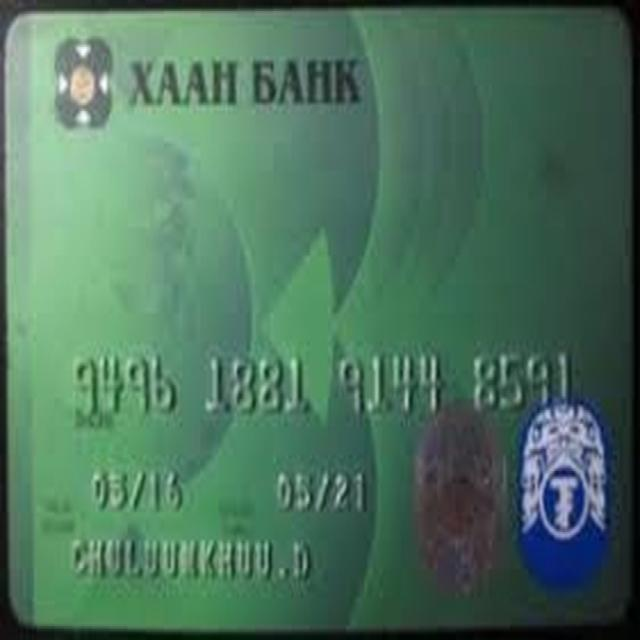card: (4, 22, 628, 624)
